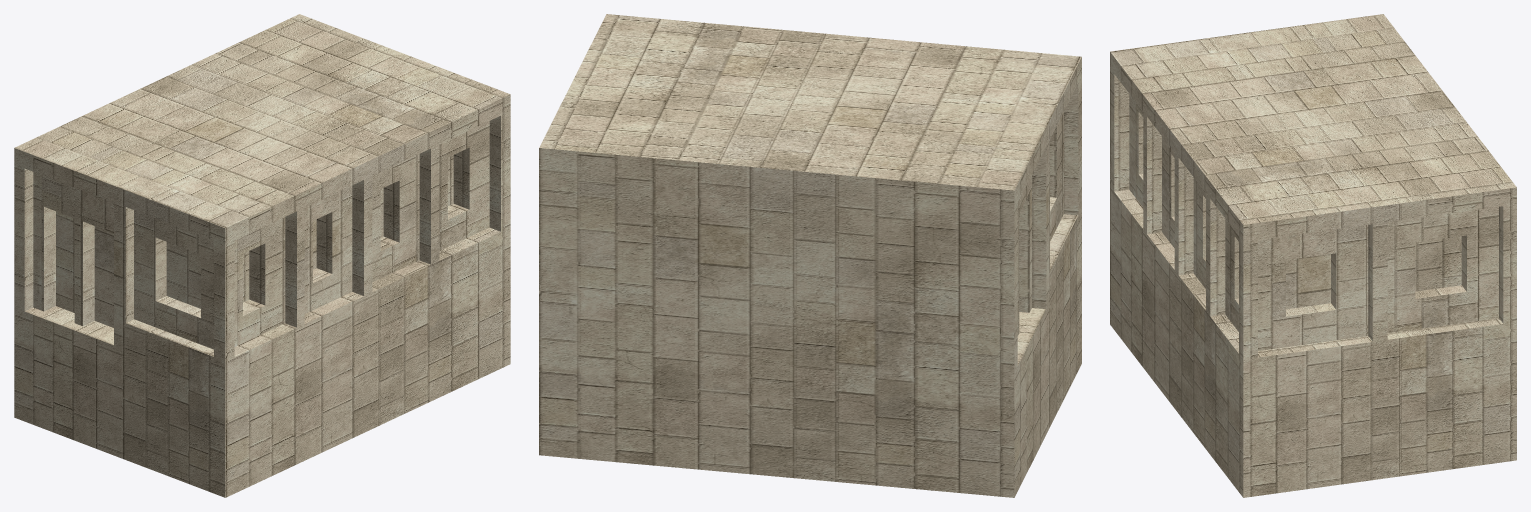
The model's file is walls_128.fbx.
3 views of the same model, side by side, from view 1: azimuth 30°, elevation 25°; view 2: azimuth 150°, elevation 25°; view 3: azimuth 270°, elevation 25° (orthographic). The views are drawn at different scales.
Visible parts, largest first — view 1: walls_128; view 2: walls_128; view 3: walls_128.
Part boxes in pixels (x1,y1,x2,y2): walls_128: [14, 14, 510, 497]; walls_128: [539, 14, 1081, 497]; walls_128: [1110, 14, 1516, 497].
Size of the model in its own units: 357 by 216 by 291.
